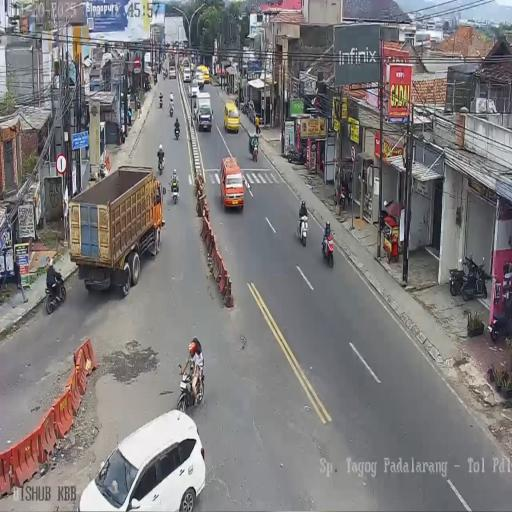3: (69, 164, 165, 296), (194, 92, 212, 132), (182, 58, 191, 82), (168, 57, 176, 80), (144, 52, 151, 74), (179, 56, 184, 68)
car: (76, 409, 205, 511), (220, 156, 244, 212), (223, 99, 240, 133), (194, 70, 204, 90)
truck: (448, 251, 488, 302), (489, 272, 512, 340), (177, 360, 204, 413), (45, 273, 67, 313), (321, 226, 334, 267), (286, 144, 304, 165), (297, 213, 308, 247), (171, 182, 179, 204), (158, 153, 166, 174), (252, 140, 258, 162), (241, 99, 249, 115), (169, 102, 174, 116), (162, 70, 168, 80), (159, 95, 163, 108), (154, 72, 158, 85), (158, 62, 161, 74)
